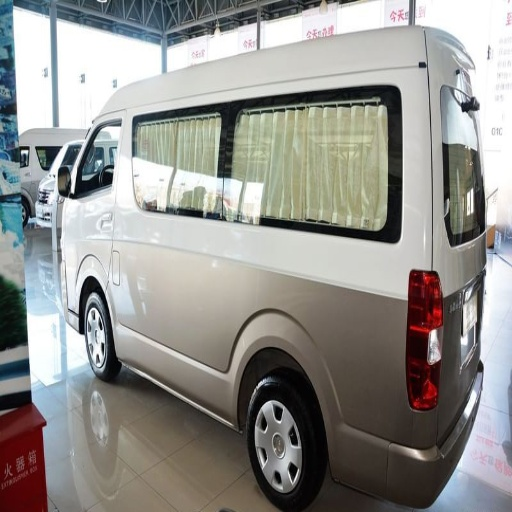back_right_door: (130, 113, 187, 216)
tailgate: (235, 78, 389, 175), (229, 12, 337, 66)
trunk: (148, 222, 472, 445), (371, 61, 443, 203)
